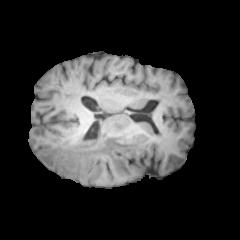glioma: (40, 115, 138, 182)
